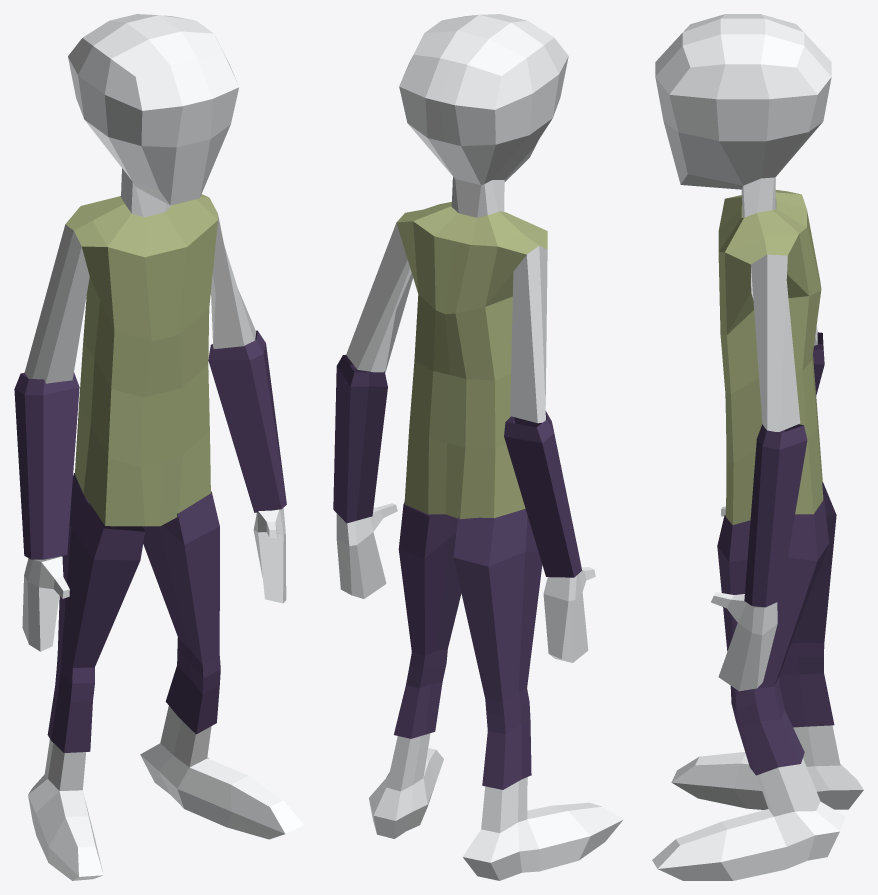
Rendered from Human Low Poly.fbx.
3 views of the same model, side by side, from view 1: azimuth 30°, elevation 25°; view 2: azimuth 150°, elevation 25°; view 3: azimuth 270°, elevation 25° (orthographic).
Visible parts, largest first — view 1: Cube; view 2: Cube; view 3: Cube.
Part boxes in pixels (x1,y1,x2,y2): Cube: [14, 14, 304, 880]; Cube: [333, 14, 623, 880]; Cube: [652, 14, 863, 880].
Size of the model in its own units: 170 by 526 by 124.
